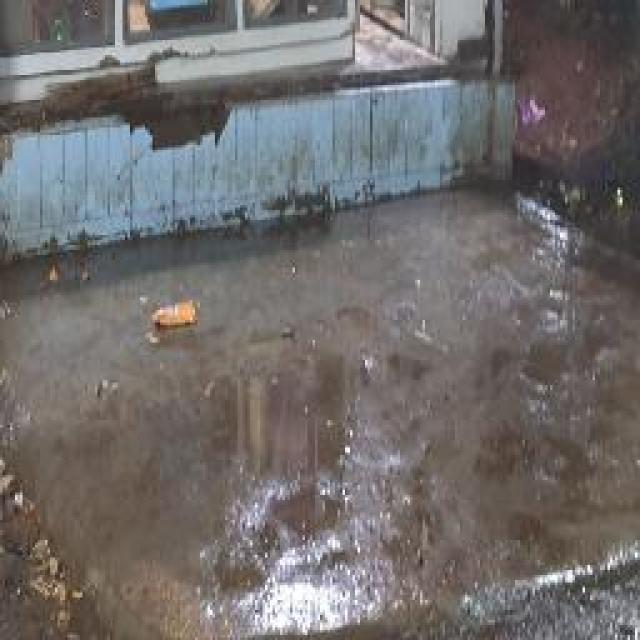stagnation: (143, 332, 466, 640)
